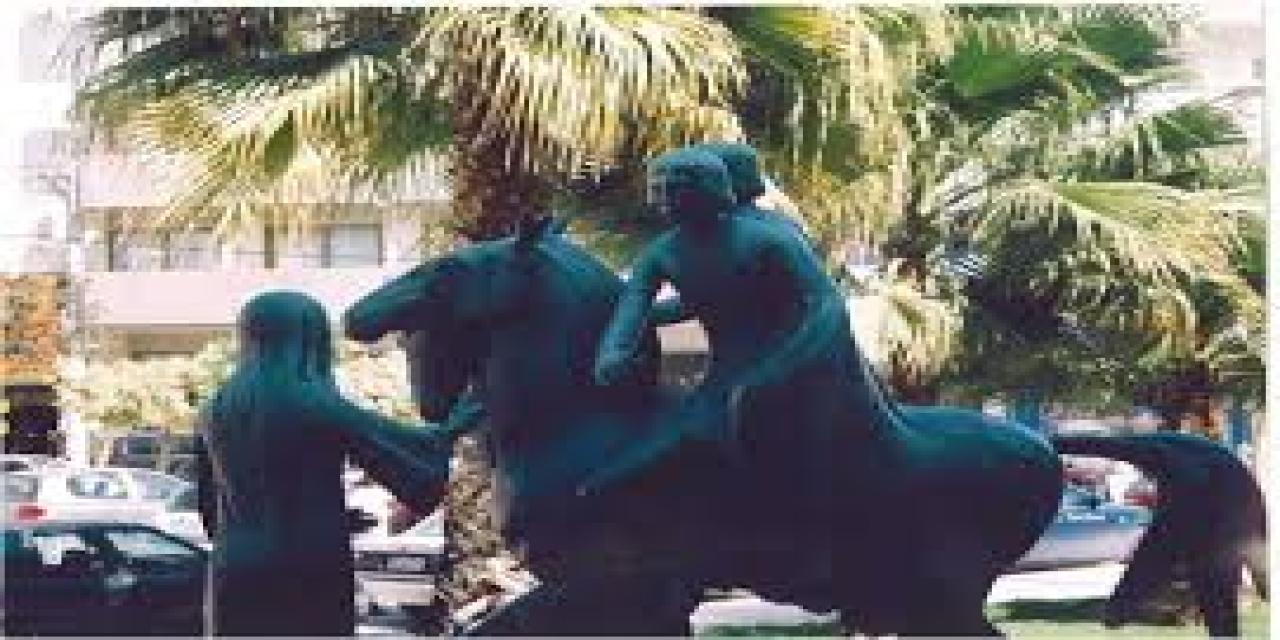Aretousa: (194, 141, 1274, 640)
